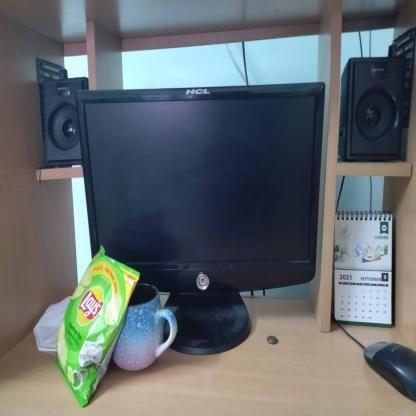cream_and_onion: (59, 245, 140, 407)
